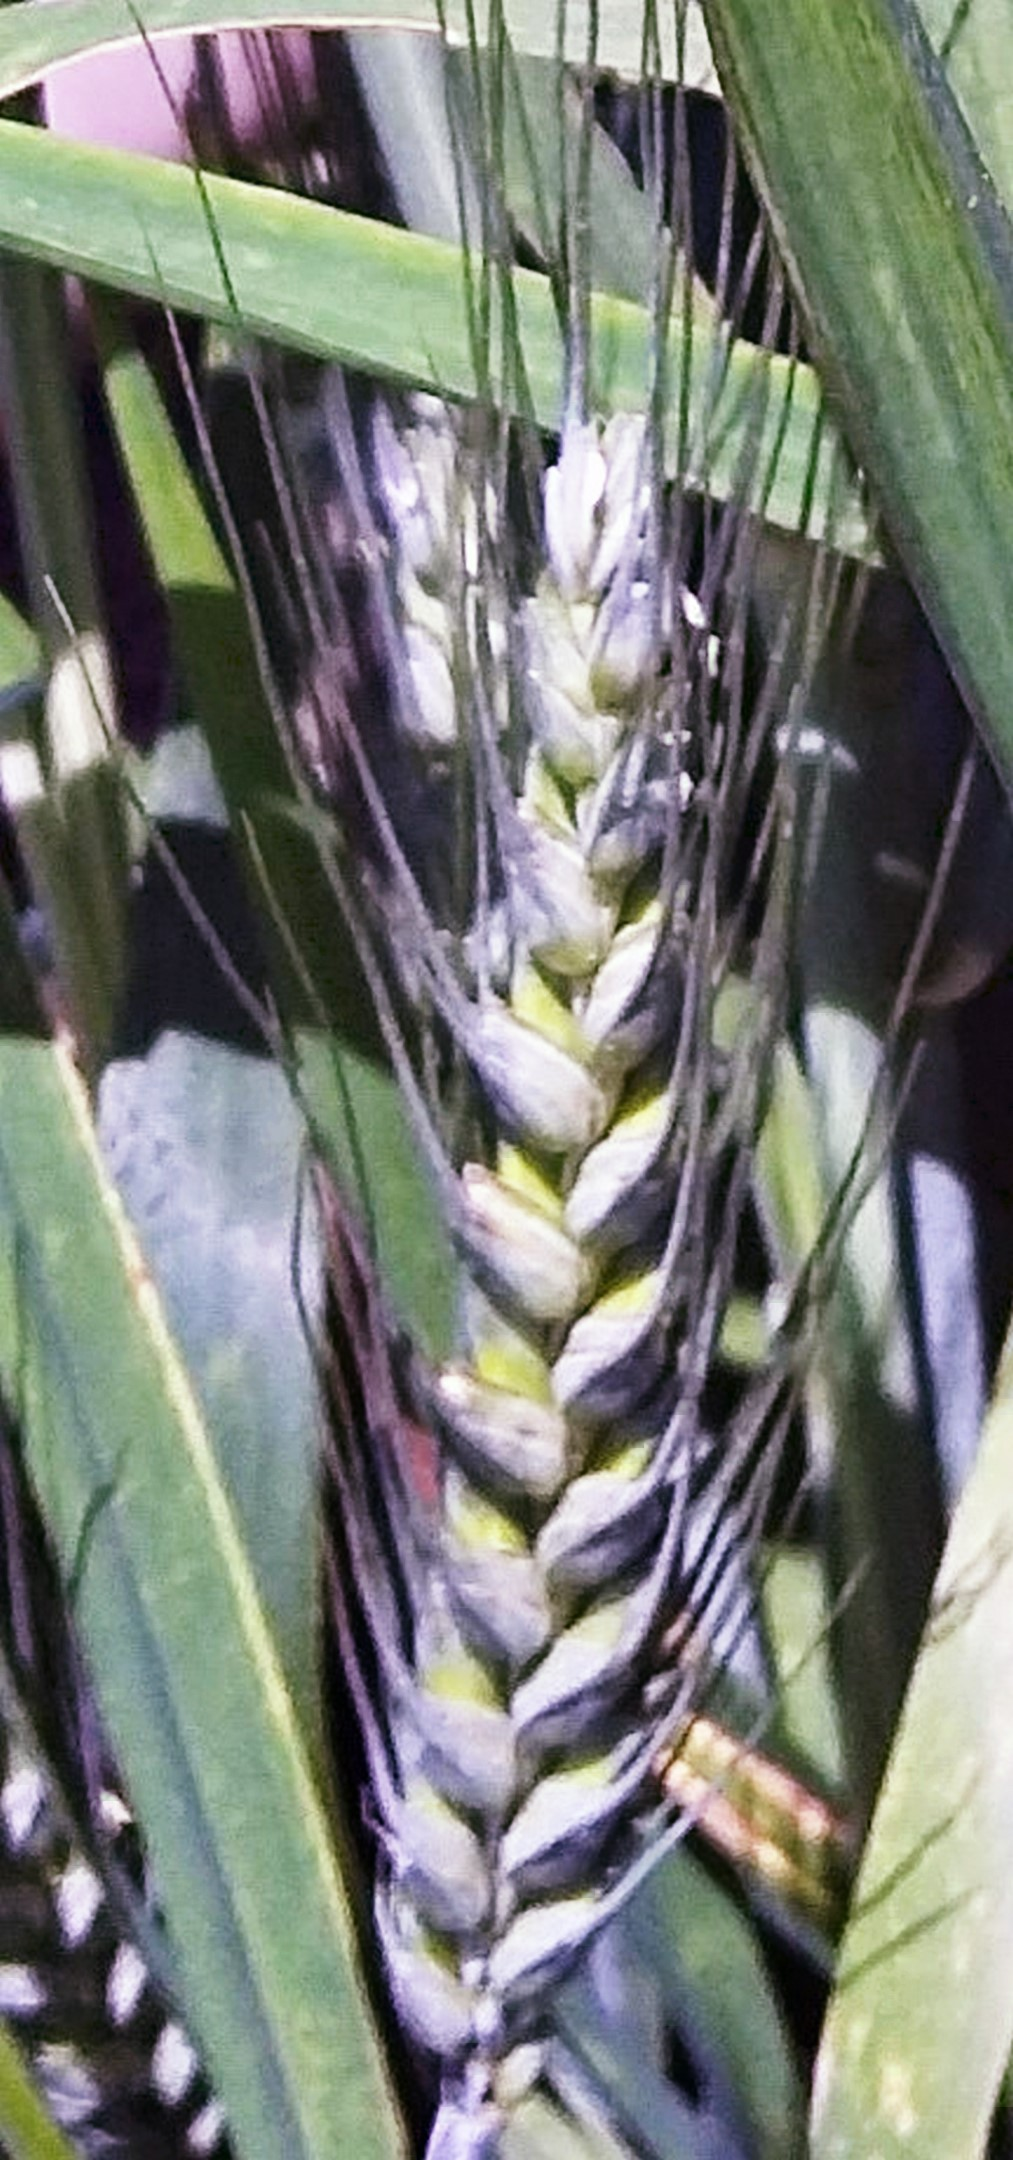Healthy Wheat: (369, 404, 798, 2077)
